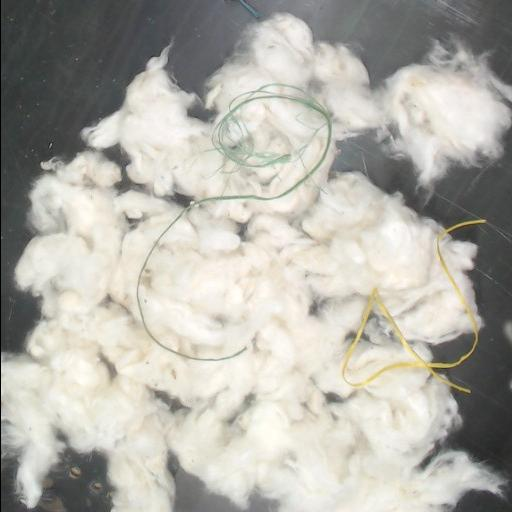conveyor belt: (1, 0, 252, 348), (423, 130, 512, 511), (246, 0, 512, 83), (337, 139, 419, 208), (43, 451, 110, 511), (176, 474, 272, 511)
cotton: (1, 13, 512, 511)
thread: (341, 218, 485, 393), (189, 82, 332, 205), (137, 224, 240, 361), (231, 0, 259, 17)
